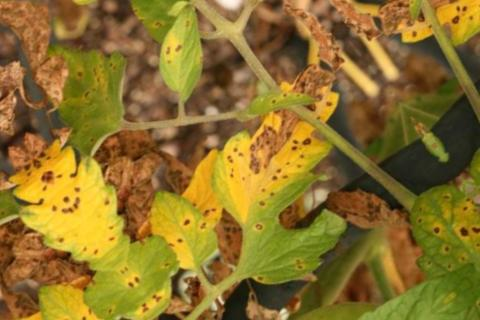Tomato Septoria leaf spot: (159, 49, 391, 274), (126, 174, 236, 288)
